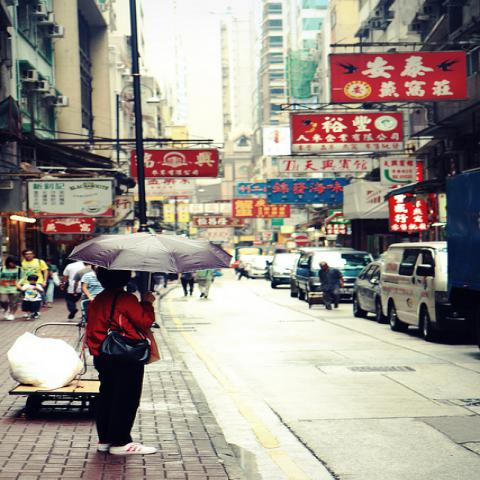car: (377, 238, 470, 336), (292, 246, 374, 306), (352, 258, 388, 323), (269, 253, 301, 288), (246, 257, 273, 277)
